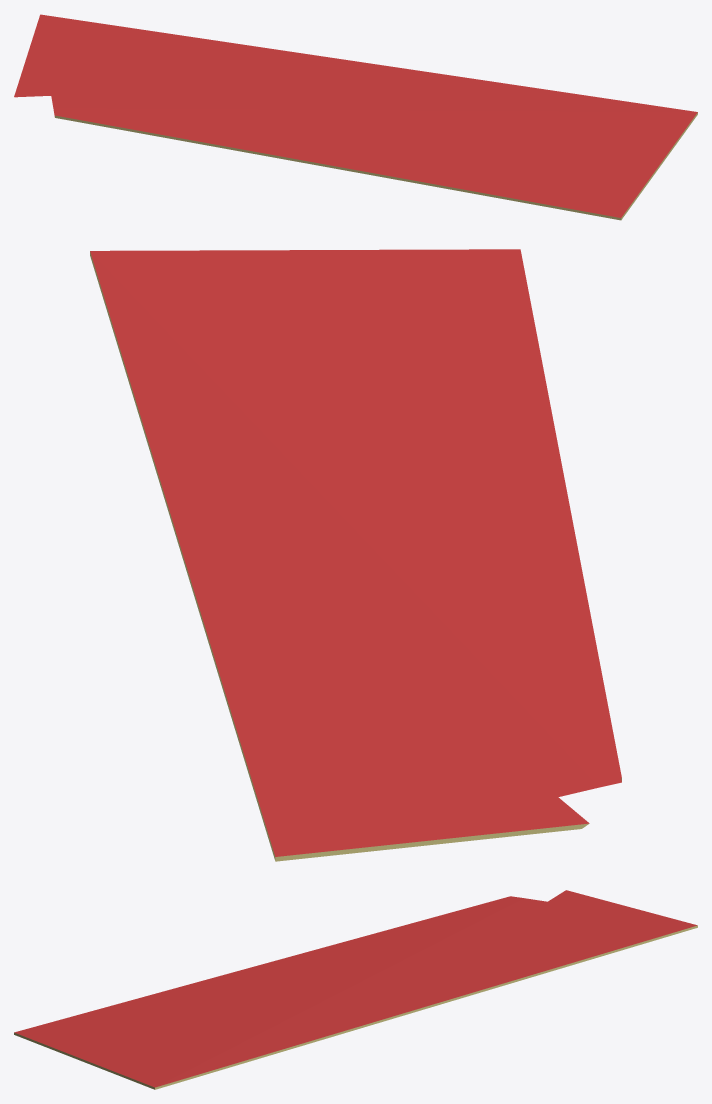
3 renders of one model, top to bottom at view 1: azimuth 30°, elevation 25°; view 2: azimuth 150°, elevation 25°; view 3: azimuth 270°, elevation 25°, orthographic. The views are drawn at different scales.
Size of the model in its own units: 20.64 by 26.84 by 1.19.
